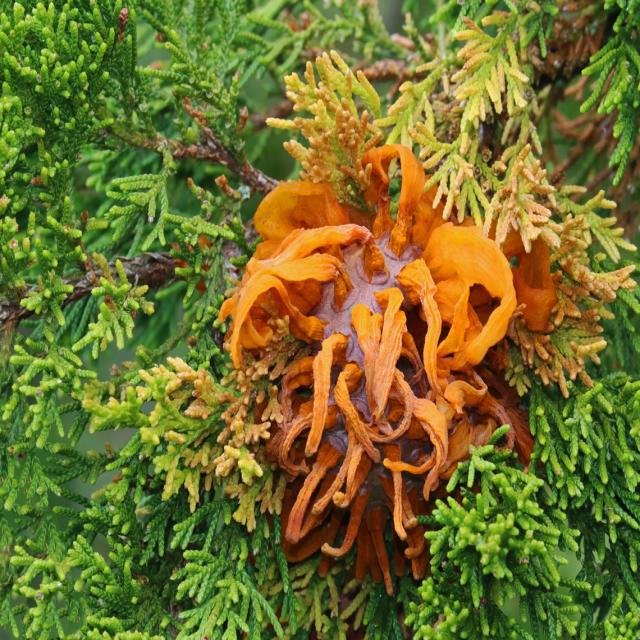Gymnosporangium_Rusts: (196, 78, 611, 590)
